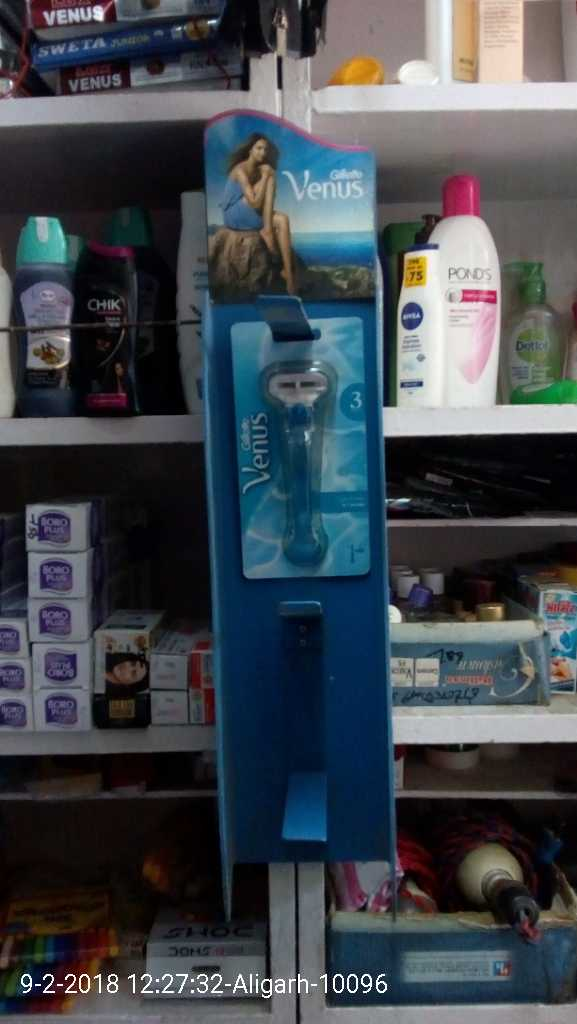venus: (229, 308, 374, 577)
